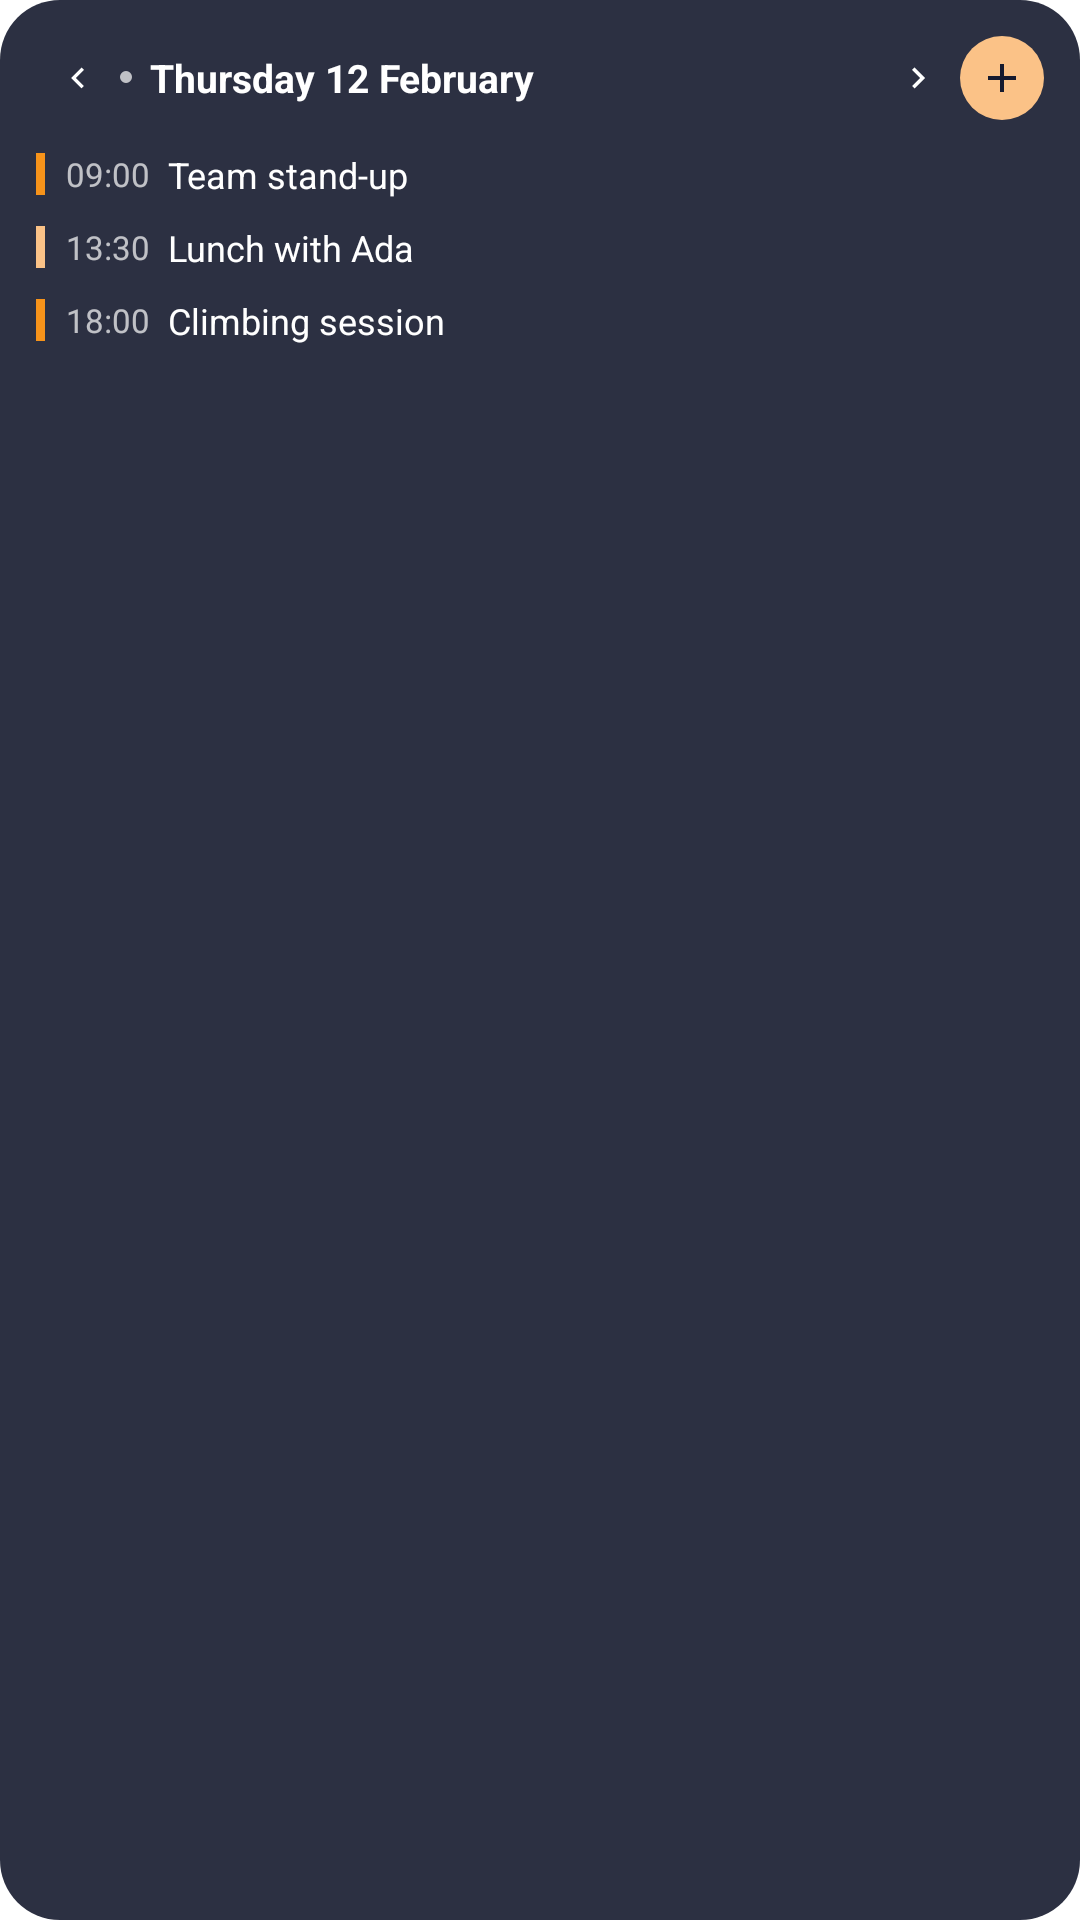

Named icons in this screenshot (1080*1920) and their centers, (x=x, y=y):
New event: (x=1002, y=78)
